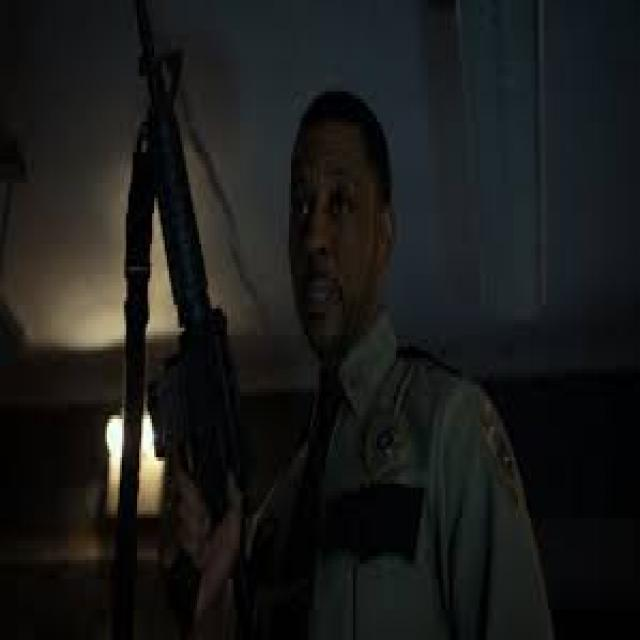weapon: (134, 0, 265, 640)
